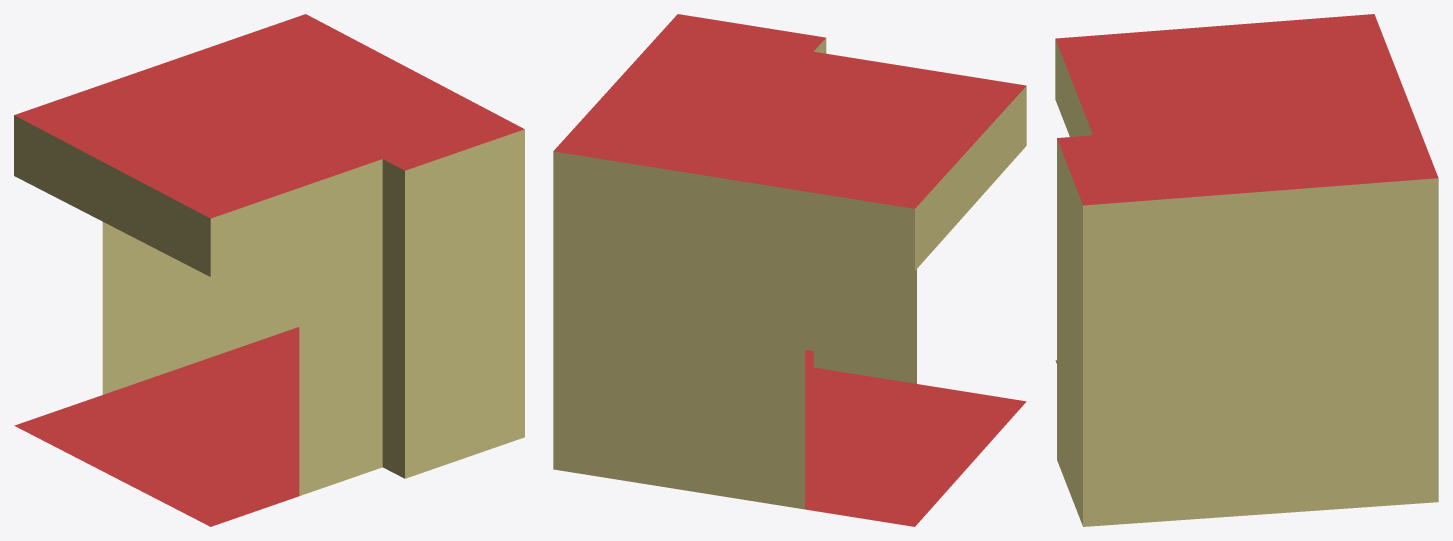
The picture shows the model from 3 angles, left to right: view 1: azimuth 30°, elevation 25°; view 2: azimuth 150°, elevation 25°; view 3: azimuth 270°, elevation 25°; orthographic projection. The views are drawn at different scales.
Parts seen in each view (by area): view 1: group_4, group_3, group_5; view 2: group_4, group_3, group_5; view 3: group_4, group_3.
Boxes of the visible parts, x1=… form: group_4: x1=14, y1=115, x2=524, y2=495; group_3: x1=14, y1=14, x2=524, y2=218; group_5: x1=14, y1=327, x2=299, y2=526; group_4: x1=553, y1=38, x2=1026, y2=509; group_3: x1=553, y1=14, x2=1026, y2=208; group_5: x1=805, y1=350, x2=1026, y2=526; group_4: x1=1055, y1=39, x2=1438, y2=526; group_3: x1=1055, y1=14, x2=1438, y2=205.
Size of the model in its own units: 17.96 by 15.4 by 14.36.
